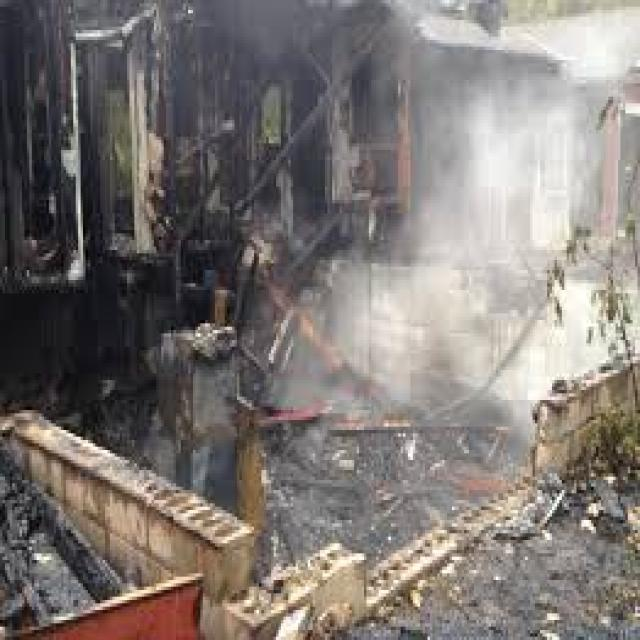smoke: (250, 210, 553, 427)
